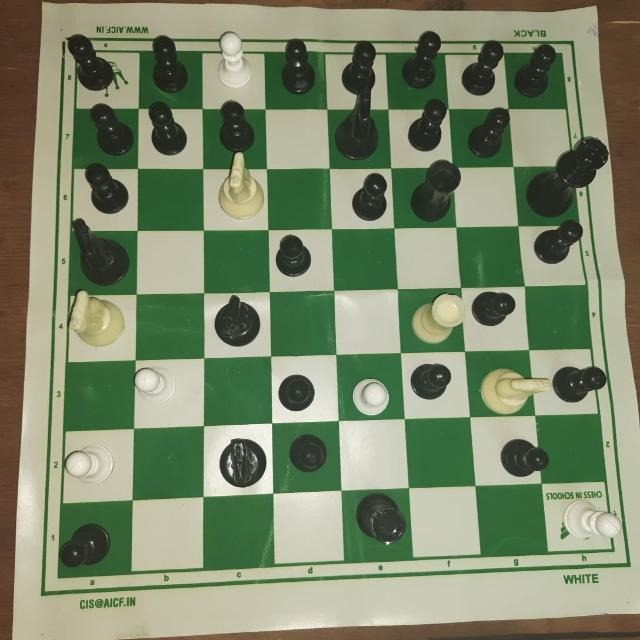black-knight: (59, 219, 137, 285), (328, 92, 389, 160), (206, 429, 274, 489), (206, 292, 268, 350)
black-pawn: (61, 28, 125, 96), (266, 366, 331, 416), (396, 98, 452, 155), (456, 31, 504, 97), (54, 518, 117, 568), (526, 215, 584, 269), (545, 360, 610, 408), (80, 101, 137, 155), (75, 161, 132, 215), (511, 41, 561, 102), (200, 100, 254, 156), (273, 38, 319, 103), (145, 33, 192, 95), (400, 27, 444, 93), (141, 101, 191, 159), (494, 433, 554, 481), (333, 38, 377, 100), (463, 105, 510, 163), (279, 425, 331, 476), (405, 356, 464, 400), (465, 290, 523, 332), (270, 227, 314, 281), (345, 171, 392, 221)
black-queen: (518, 134, 609, 220)
black-rook: (400, 159, 467, 228), (348, 490, 418, 556)
white-knight: (207, 152, 267, 220), (475, 365, 553, 415), (63, 290, 128, 348)
white-pawn: (557, 493, 627, 544), (203, 30, 257, 91), (58, 441, 119, 489), (130, 366, 191, 412), (343, 368, 393, 418)
white-rook: (404, 289, 468, 350)
